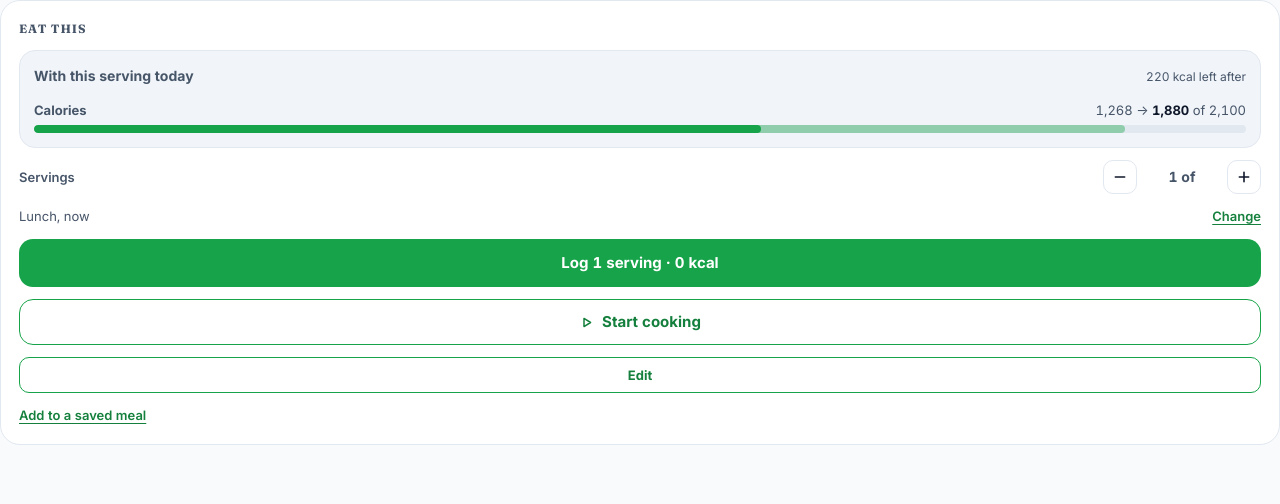
EatCardComponent › names the meal by the clock and lets the person change it
Click the button "Change" at point(1237, 217), box [1212,206,1261,227]
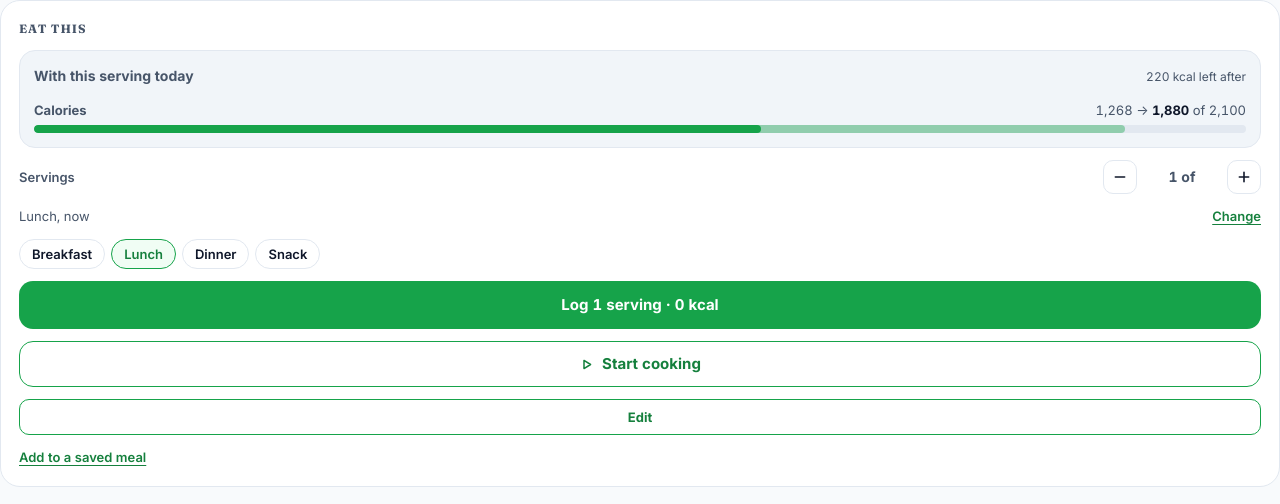
Click the button "Dinner" at point(216, 254), box [182,239,249,269]
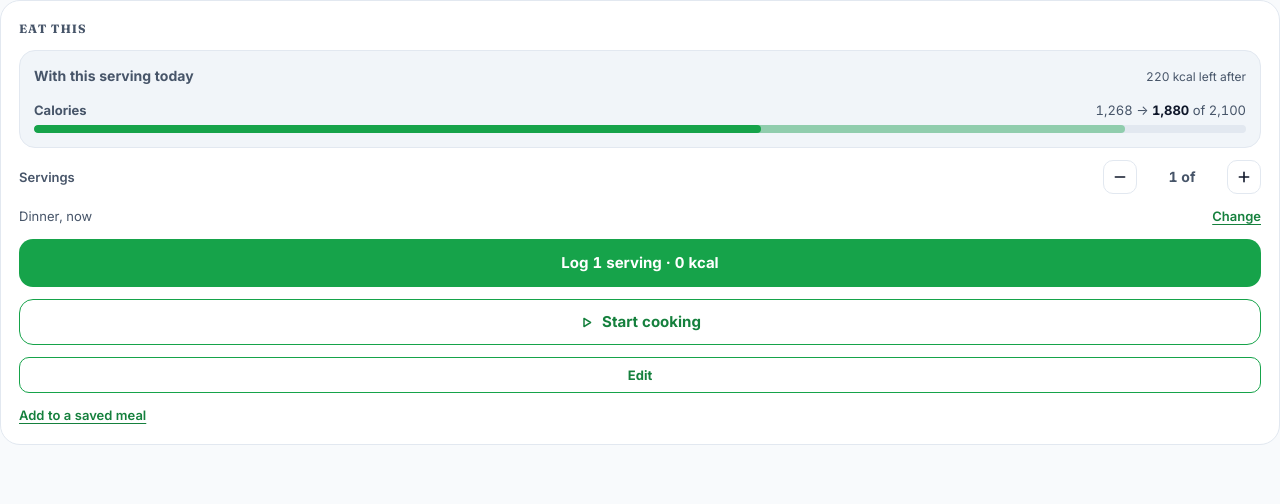
Now the text "Dinner, now" is shown, box [19,206,92,227]
Now the element with class "slots" is gone
